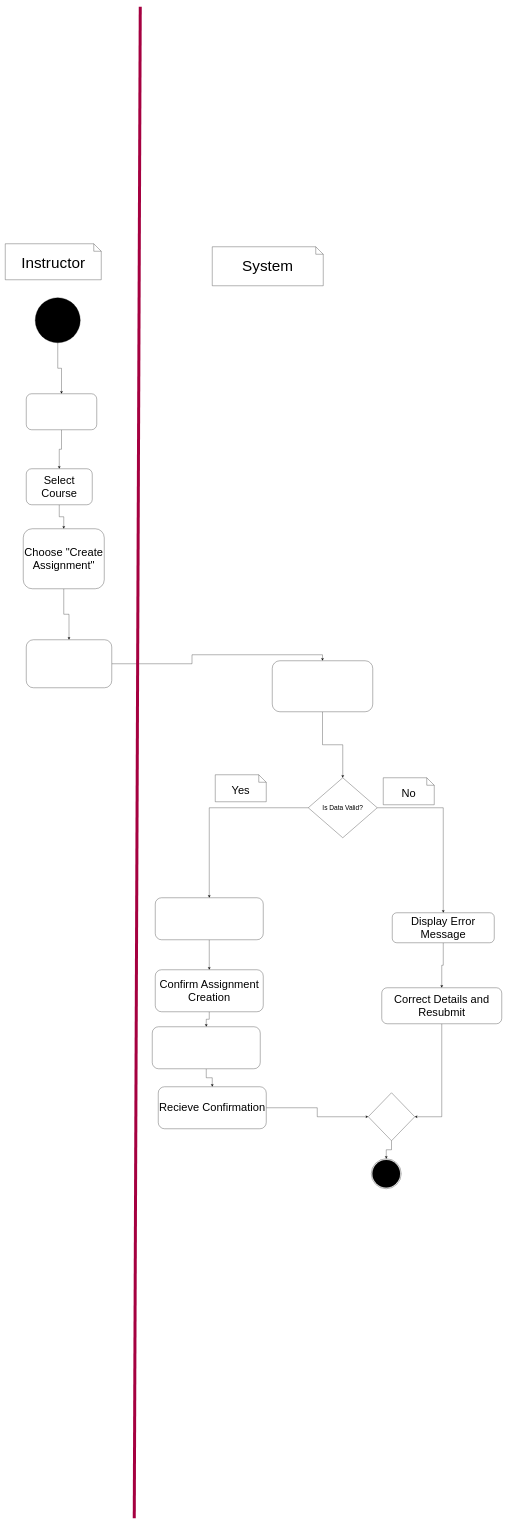
This 507x1525 diagram has some shape labels left out. The shapes that lost their labels are listed below. From the top down, each one's box as (x1, y1, x2, y2) in pixels, then its label:
(26, 393, 97, 430): Login to LMS
(26, 639, 112, 688): Enter Assignment Details
(272, 660, 373, 712): Validate Assignment Data
(155, 897, 263, 940): Store Assignment in Database
(152, 1026, 260, 1069): Notify Enrolled Students
